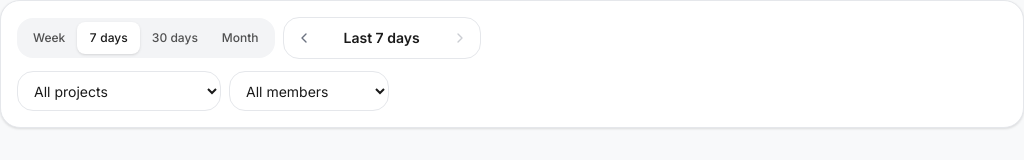
Scenario: PeriodToolbar without the custom range (existing reports) › renders the presets and stepping only — no Custom button, no dates line, no zone
Expected: the buttons read "Week", "7 days", "30 days", "Month", in this order, [21,22,77,54]; [77,22,140,54]; [140,22,210,54]; [210,22,271,54]
Expected: the button named "Next period" is disabled, [444,22,476,54]
Step 1. Click the button named "Previous period" → click(304, 38), box [288,22,320,54]
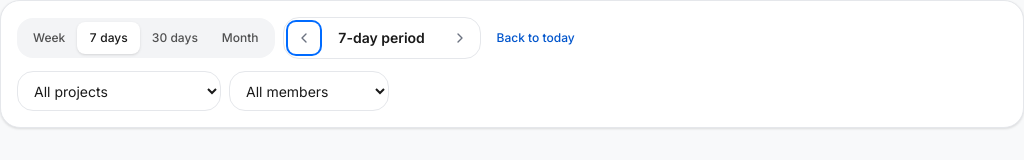
Expected: the text "7-day period" is shown, [338,29,425,46]
Step 2. Click the button "Back to today" → click(536, 38), box [489,26,583,50]
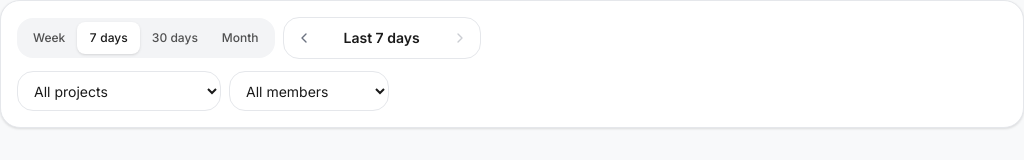
Expected: the text "Last 7 days" is shown, [344,29,420,46]
